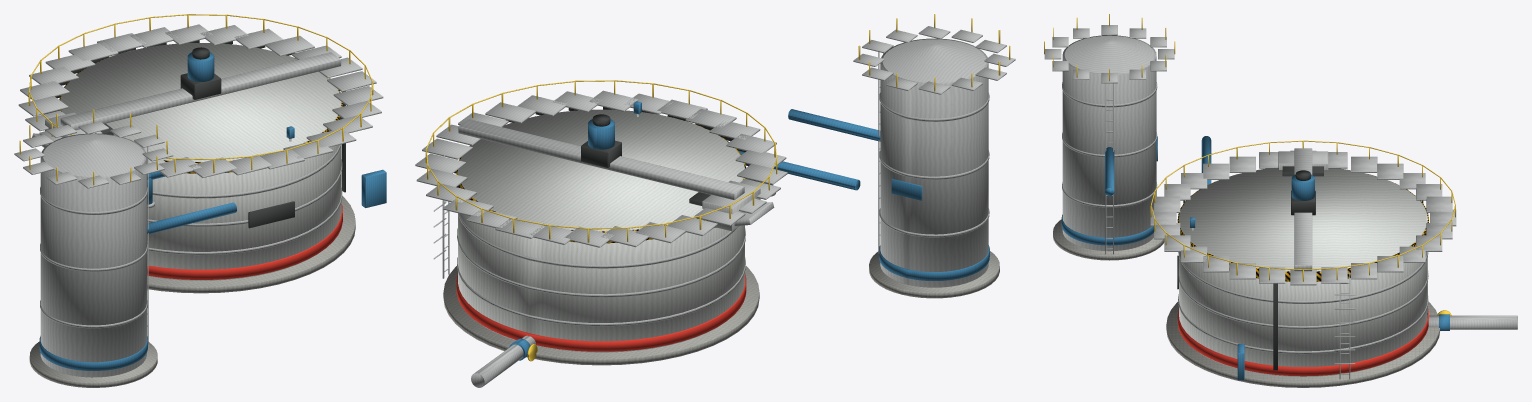
File: Level3_SlurryTank_IndustrialUV_v2.fbx
3 renders of one model, left to right at view 1: azimuth 30°, elevation 25°; view 2: azimuth 150°, elevation 25°; view 3: azimuth 270°, elevation 25°, orthographic. The views are drawn at different scales.
Parts seen in each view (by area): view 1: Slurry Tank, Water_tank, L3_SlurryTank_DriveBridge, L3_WaterTank_DomeTop, L3_SlurryTank_Plinth, L3_SlurryTank_OrangeBand, L3_WaterTank_Plinth, L3_WaterTank_BlueBand, L3_WaterTank_Outlet_Run, L3_SlurryTank_ControlPanel, L3_SlurryTank_NamePlate, L3_SlurryTank_WeldBand_00 (+32 smaller); view 2: Slurry Tank, Water_tank, L3_SlurryTank_Plinth, L3_SlurryTank_DriveBridge, L3_WaterTank_DomeTop, L3_SlurryTank_OrangeBand, L3_WaterTank_Plinth, L3_SlurryTank_WeldBand_01, L3_SlurryTank_WeldBand_00, L3_SlurryTank_WeldBand_02, L3_WaterTank_BlueBand, L3_WaterTank_Outlet_Run (+28 smaller); view 3: Slurry Tank, Water_tank, L3_SlurryTank_Plinth, L3_WaterTank_DomeTop, L3_SlurryTank_OrangeBand, L3_SlurryTank_DriveBridge, L3_WaterTank_Plinth, L3_SlurryTank_Outlet_Run, L3_SlurryTank_WeldBand_00, L3_SlurryTank_WeldBand_01, L3_SlurryTank_WeldBand_02, L3_WaterTank_BlueBand (+20 smaller).
Boxes of the visible parts, box(x1,y1,x2,y2) form: Slurry Tank: box(60, 43, 341, 280); Water_tank: box(40, 133, 146, 377); L3_SlurryTank_DriveBridge: box(60, 52, 341, 130); L3_WaterTank_DomeTop: box(43, 134, 144, 176); L3_SlurryTank_Plinth: box(147, 196, 355, 293); L3_SlurryTank_OrangeBand: box(147, 204, 342, 279); L3_WaterTank_Plinth: box(29, 341, 157, 387); L3_WaterTank_BlueBand: box(39, 336, 147, 370); L3_WaterTank_Outlet_Run: box(147, 202, 236, 233); L3_SlurryTank_ControlPanel: box(361, 169, 386, 207); L3_SlurryTank_NamePlate: box(248, 201, 294, 228); L3_SlurryTank_WeldBand_00: box(148, 188, 342, 255); Slurry Tank: box(458, 109, 744, 352); Water_tank: box(880, 38, 988, 287); L3_SlurryTank_Plinth: box(443, 266, 759, 365); L3_SlurryTank_DriveBridge: box(458, 119, 744, 199); L3_WaterTank_DomeTop: box(882, 39, 986, 82); L3_SlurryTank_OrangeBand: box(456, 273, 746, 351); L3_WaterTank_Plinth: box(869, 251, 999, 298); L3_SlurryTank_WeldBand_01: box(457, 228, 745, 297); L3_SlurryTank_WeldBand_00: box(457, 257, 745, 326); L3_SlurryTank_WeldBand_02: box(458, 213, 736, 268); L3_WaterTank_BlueBand: box(879, 245, 989, 280); L3_WaterTank_Outlet_Run: box(788, 109, 880, 141); Slurry Tank: box(1179, 168, 1427, 376); Water_tank: box(1062, 35, 1156, 251); L3_SlurryTank_Plinth: box(1166, 302, 1439, 387); L3_WaterTank_DomeTop: box(1064, 35, 1154, 73); L3_SlurryTank_OrangeBand: box(1177, 308, 1428, 376); L3_SlurryTank_DriveBridge: box(1294, 148, 1312, 271); L3_WaterTank_Plinth: box(1053, 219, 1164, 260); L3_SlurryTank_Outlet_Run: box(1428, 315, 1517, 329); L3_SlurryTank_WeldBand_00: box(1178, 294, 1428, 354); L3_SlurryTank_WeldBand_01: box(1179, 271, 1428, 328); L3_SlurryTank_WeldBand_02: box(1178, 252, 1428, 303); L3_WaterTank_BlueBand: box(1061, 214, 1153, 245).
Bounding box in the file's own units: 32.3 × 15.55 × 34.24.
Materials: 9 (9 with a texture image).
